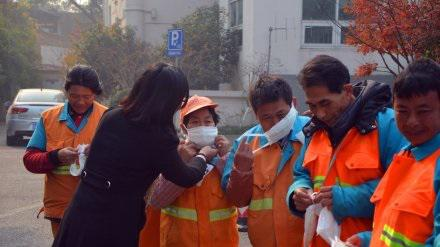NONE: (394, 102, 435, 144), (307, 95, 341, 130), (69, 87, 95, 113)
OK: (187, 113, 219, 148)
WRONG: (259, 103, 295, 139)
